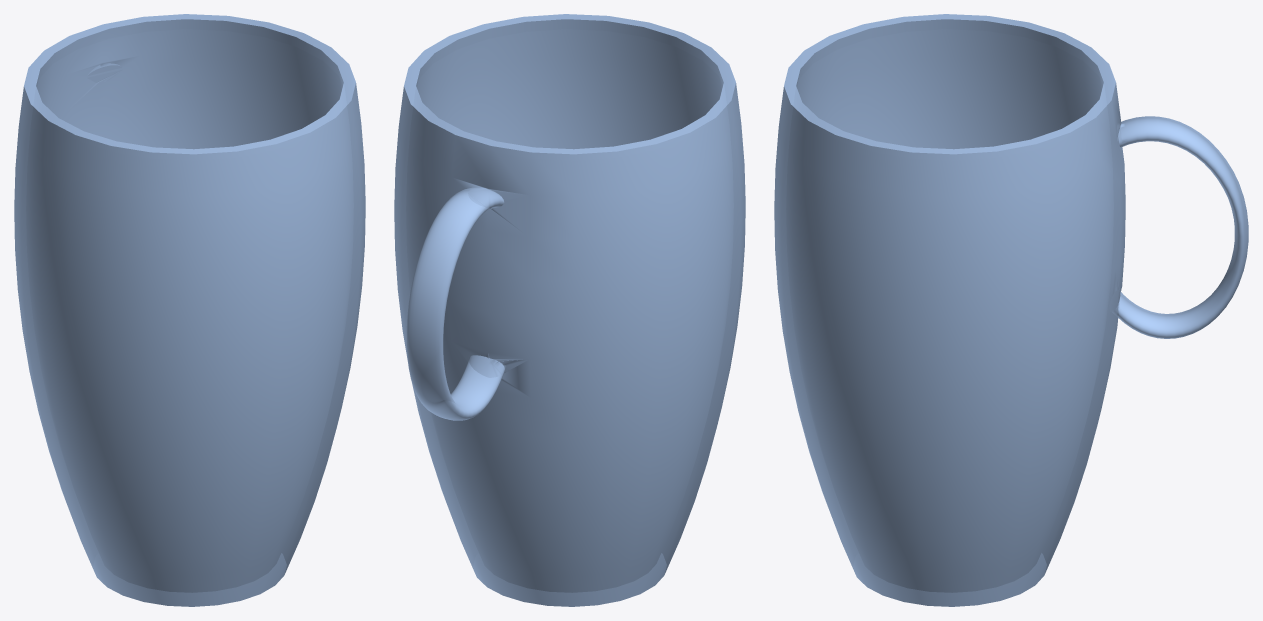
The picture shows the model from 3 angles, left to right: view 1: azimuth 30°, elevation 25°; view 2: azimuth 150°, elevation 25°; view 3: azimuth 270°, elevation 25°; orthographic projection.
Visible parts, largest first — view 1: mesh1_mesh1-geometry; view 2: mesh1_mesh1-geometry; view 3: mesh1_mesh1-geometry.
Part boxes in pixels (<box>): mesh1_mesh1-geometry: <box>14,14,365,606</box>; mesh1_mesh1-geometry: <box>394,14,745,606</box>; mesh1_mesh1-geometry: <box>774,14,1248,606</box>.
Bounding box in the file's own units: 0.4424 × 0.6691 × 0.5971.
